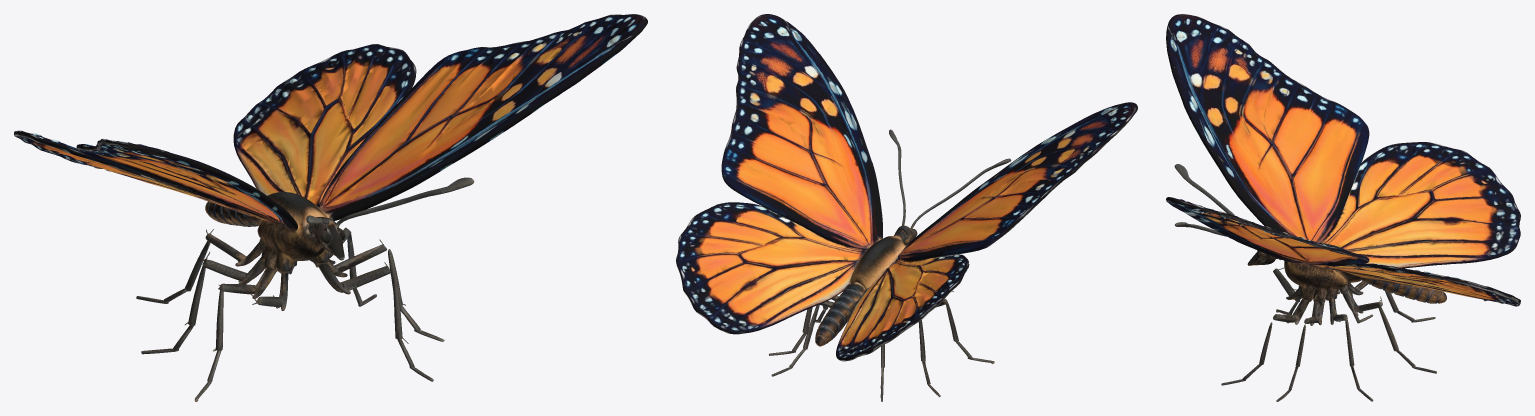
The model's file is butterfly.glb.
3 views of the same model, side by side, from view 1: azimuth 30°, elevation 25°; view 2: azimuth 150°, elevation 25°; view 3: azimuth 270°, elevation 25° (orthographic). The views are drawn at different scales.
Bounding box in the file's own units: 1.9 × 1.18 × 1.5.
1 material, 1 textured.
